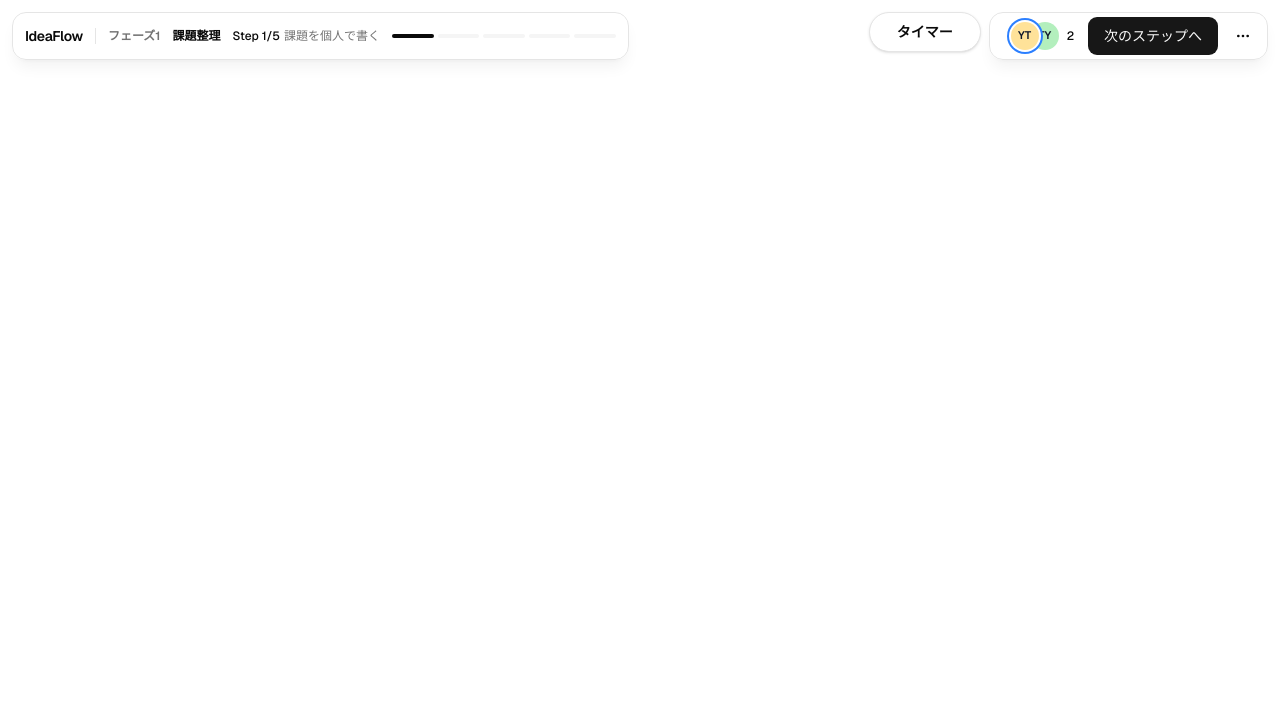
Test: RoomBoardHeader › 招待情報（host 限定） › host の招待情報は常設せずルームメニュー内に表示する
Expected: the text "招待URL" is not shown
Click the button named "ルームメニューを開く": {"x": 1243, "y": 36} [1223,16,1263,56]
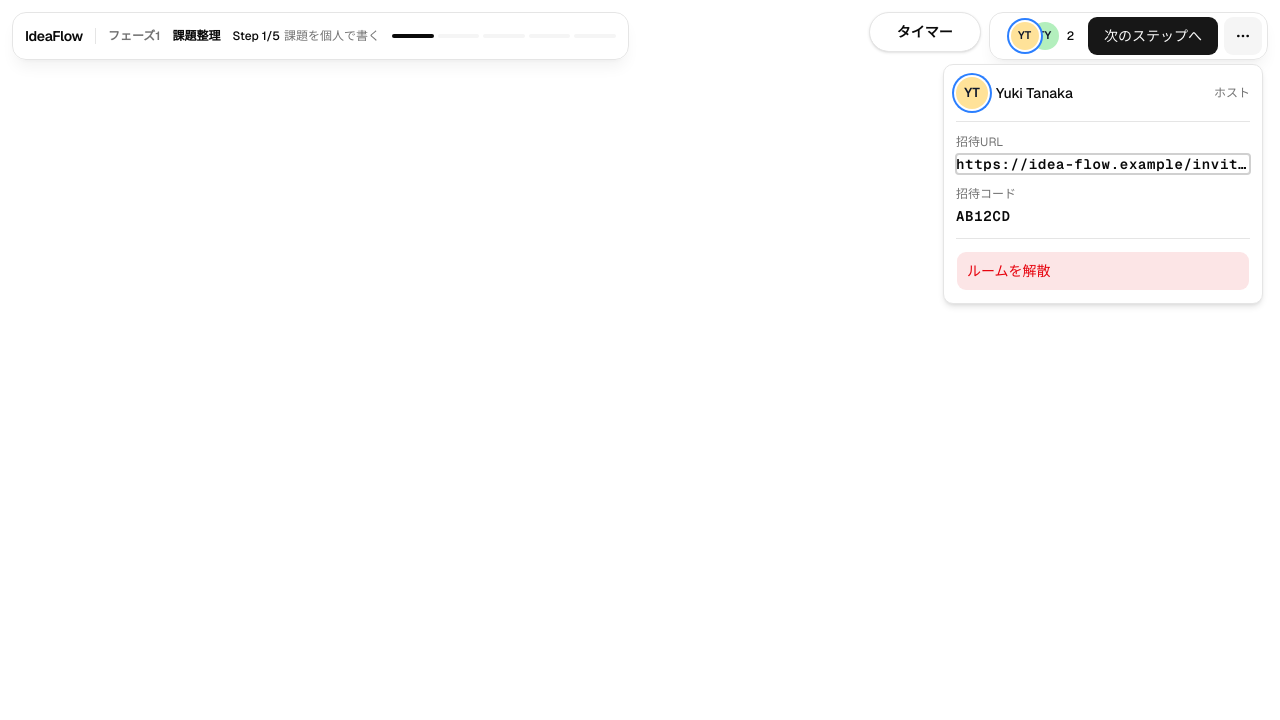
Now the text "招待URL" is shown, box [956,134,1003,150]
Now the button with aria-label "招待コードをコピー" reads "AB12CD", box [956,206,1011,226]
